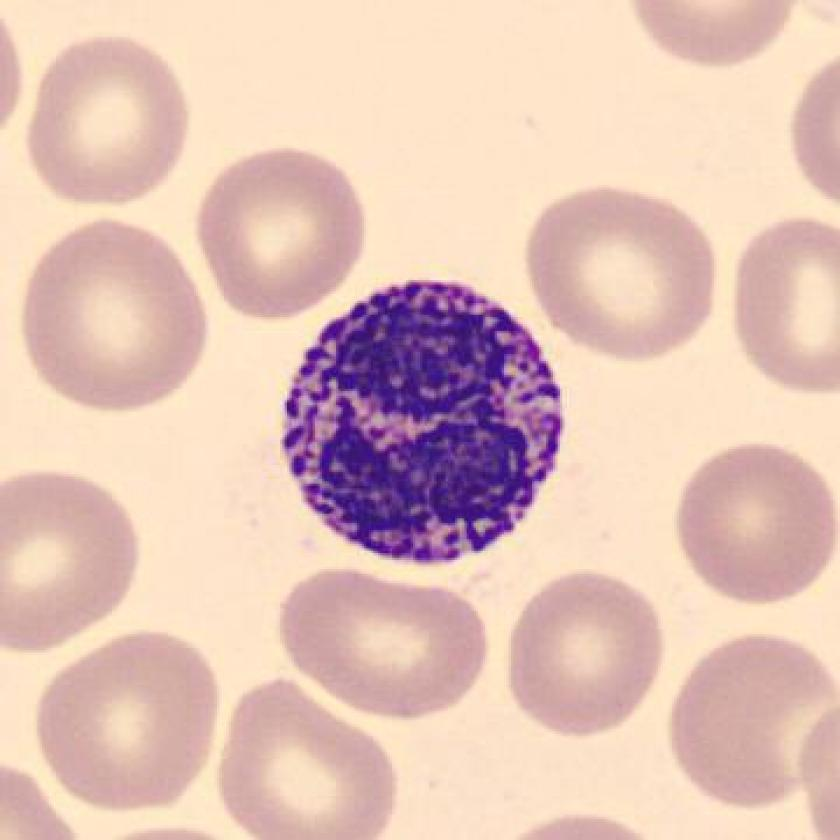basophil: (265, 274, 580, 577)
